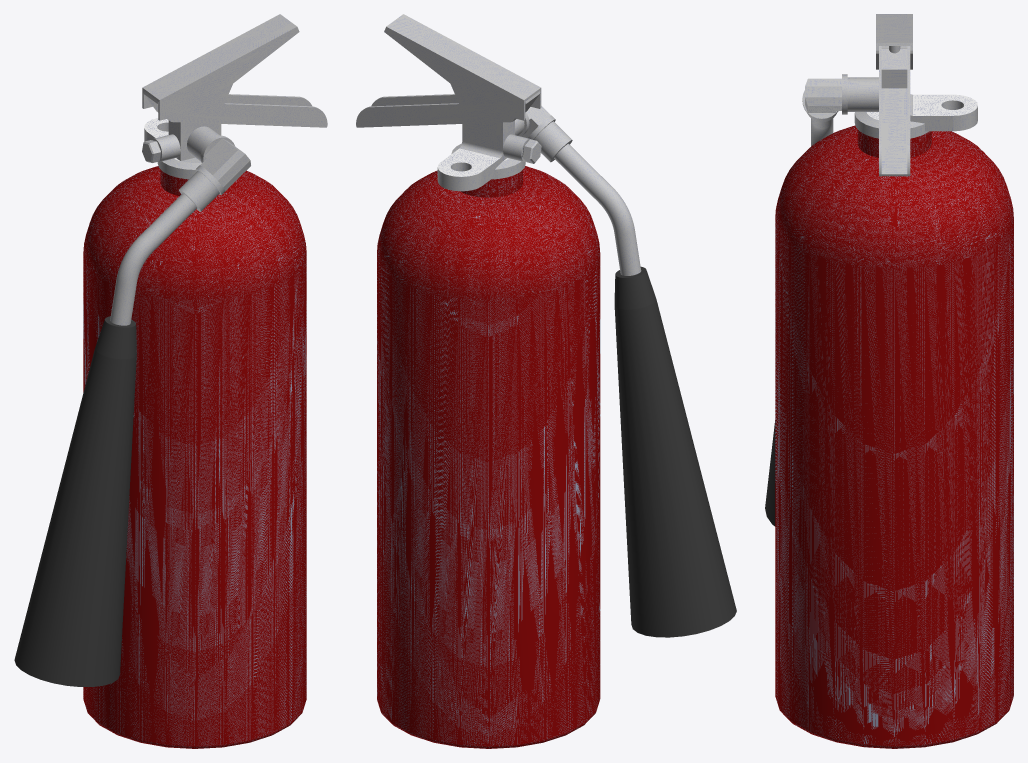
Rendered from _fire_extinguisher.dae.
The picture shows the model from 3 angles, left to right: view 1: azimuth 30°, elevation 25°; view 2: azimuth 150°, elevation 25°; view 3: azimuth 270°, elevation 25°; orthographic projection. The views are drawn at different scales.
Visible parts, largest first — view 1: group_4 (×6), group_2, group_3; view 2: group_4 (×6), group_2, group_3; view 3: group_4 (×6), group_3, group_2.
Boxes of the visible parts, x1,y1,x2,y2 form: group_4 (×6): (14,120,306,748); group_2: (142,14,299,120); group_3: (143,91,327,127); group_4 (×6): (377,119,736,748); group_2: (384,14,541,120); group_3: (356,91,540,127); group_4 (×6): (765,46,1013,748); group_3: (879,46,910,176); group_2: (876,14,912,69).
Size of the model in its own units: 9.03 by 5.47 by 17.13.
